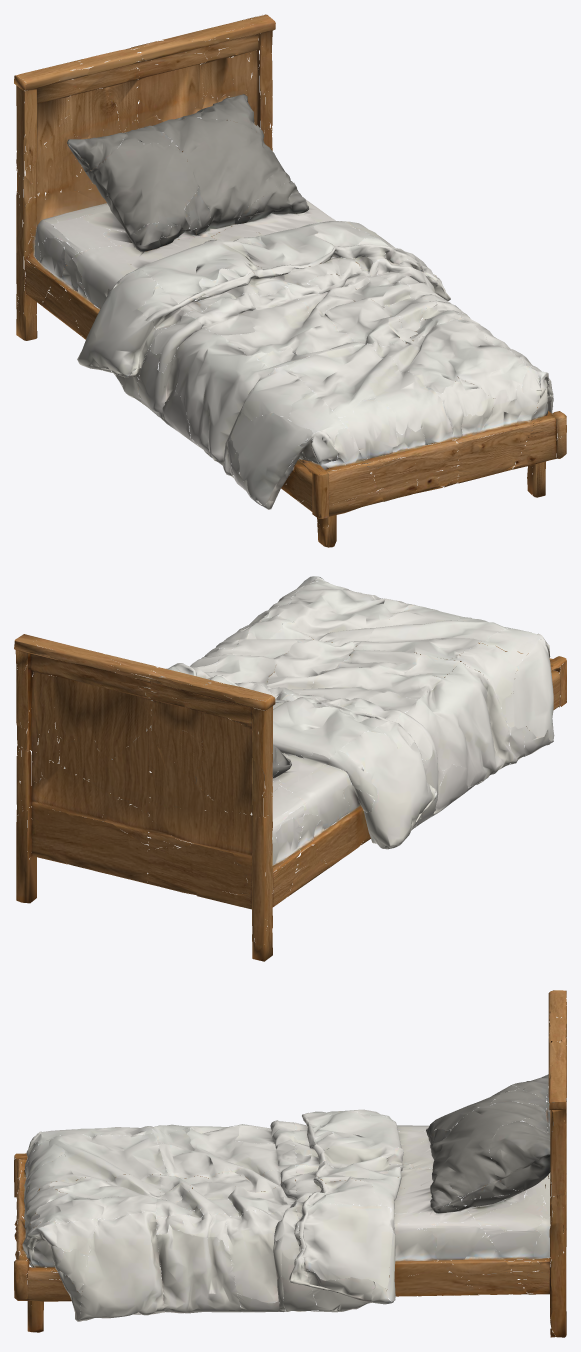
Rendered from bed.glb.
The picture shows the model from 3 angles, top to bottom: view 1: azimuth 30°, elevation 25°; view 2: azimuth 150°, elevation 25°; view 3: azimuth 270°, elevation 25°; orthographic projection. The views are drawn at different scales.
Visible parts, largest first — view 1: bed; view 2: bed; view 3: bed.
Part boxes in pixels (bbox=[...]): bed: bbox=[14, 14, 566, 547]; bed: bbox=[14, 576, 566, 961]; bed: bbox=[14, 990, 566, 1337].
Bounding box in the file's own units: 1.2 × 0.9258 × 1.95.
Materials: 1 (1 with a texture image).
